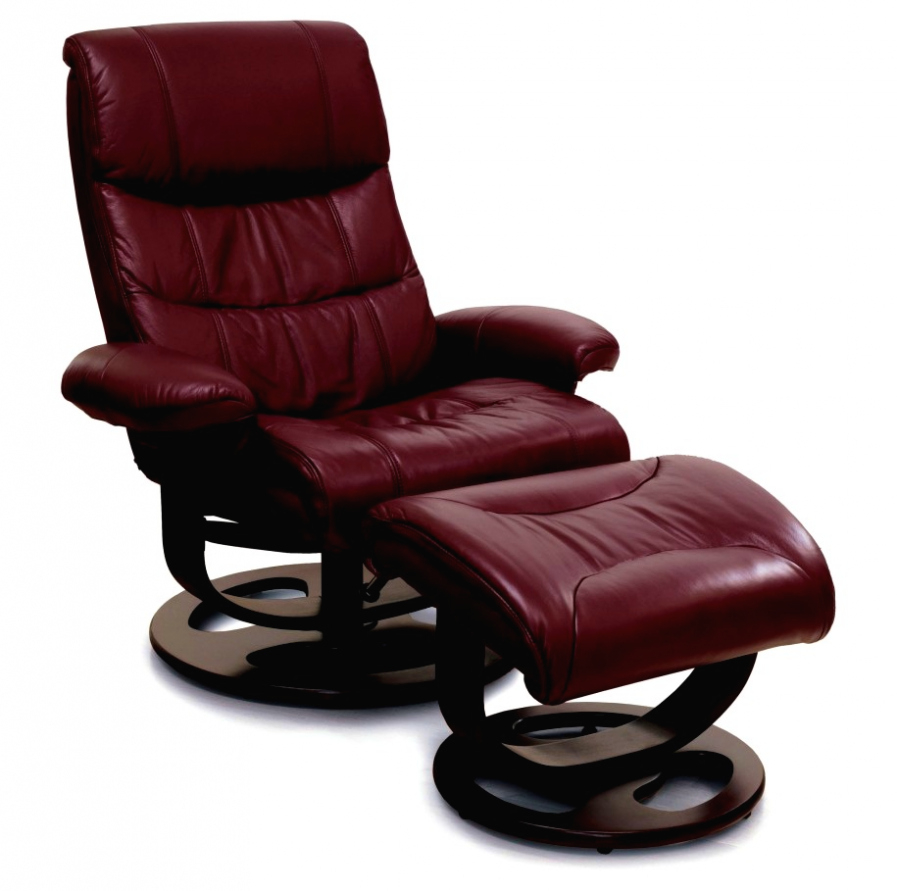chairs: (43, 13, 633, 723), (371, 446, 839, 851)
